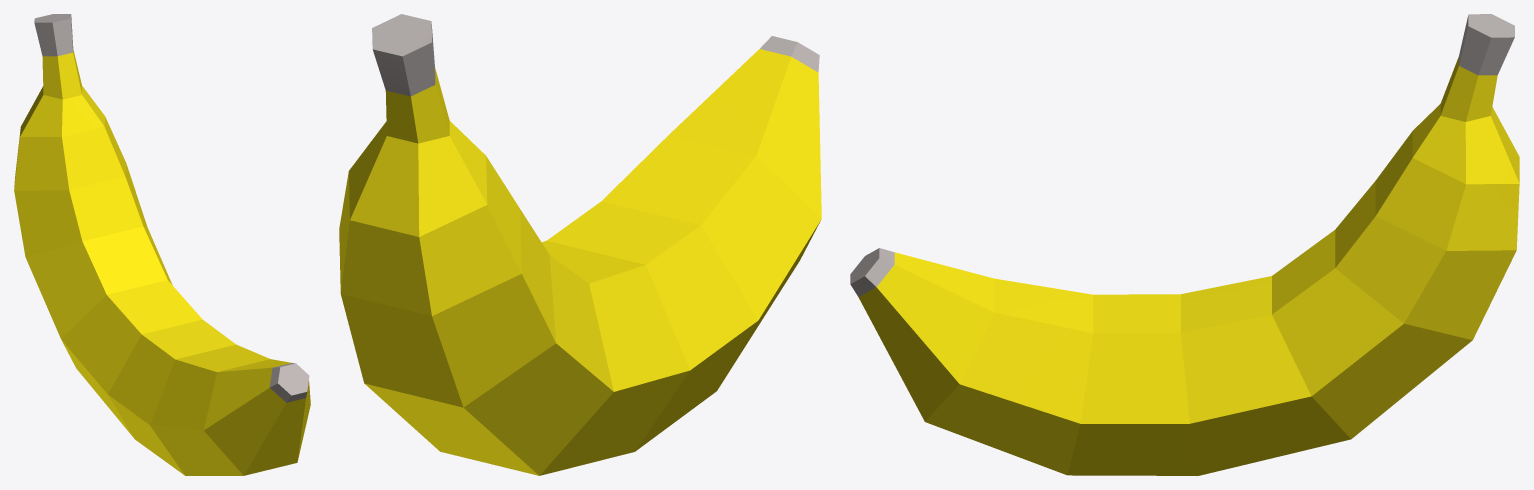
The model's file is banana_001.glb.
3 renders of one model, left to right at view 1: azimuth 30°, elevation 25°; view 2: azimuth 150°, elevation 25°; view 3: azimuth 270°, elevation 25°, orthographic. The views are drawn at different scales.
Visible parts, largest first — view 1: banana_001; view 2: banana_001; view 3: banana_001.
Boxes of the visible parts, x1,y1,x2,y2 form: banana_001: [14, 14, 310, 475]; banana_001: [339, 14, 821, 475]; banana_001: [850, 14, 1519, 475].
Size of the model in its own units: 0.0545 by 0.143 by 0.1988.
Materials: 1 (1 with a texture image).
